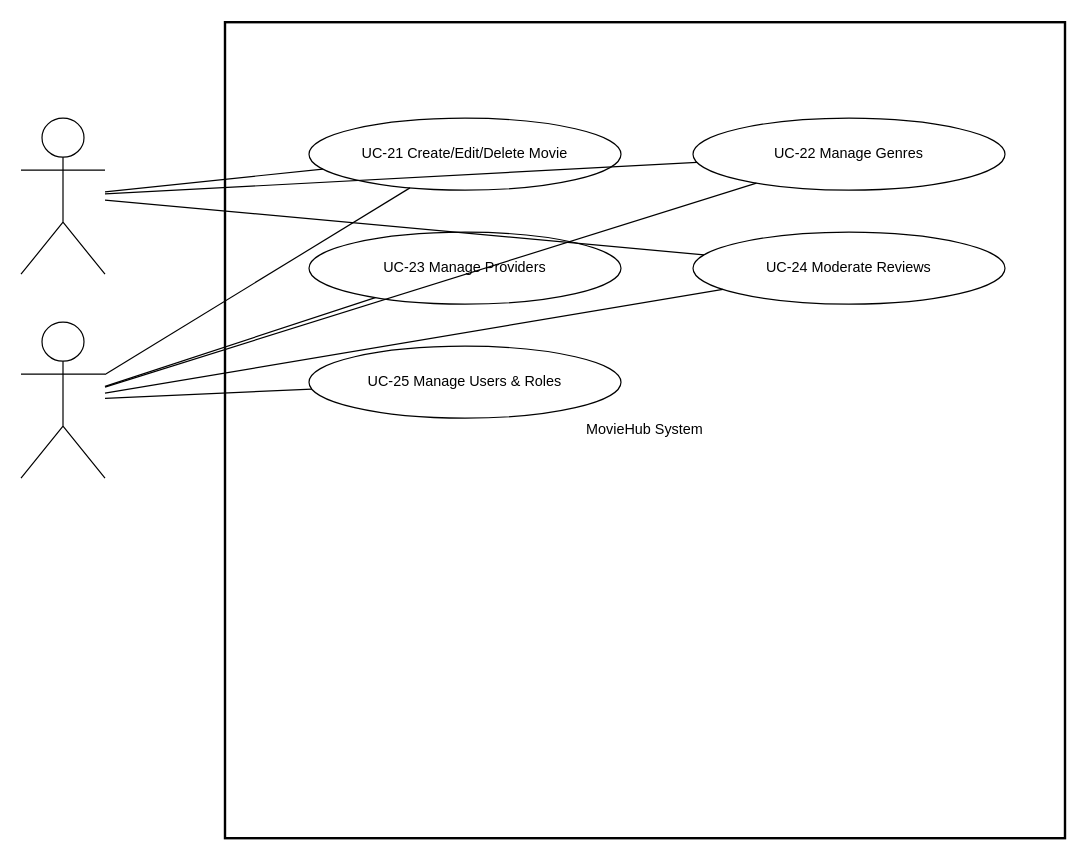
This 1087x859 diagram has some shape labels left out. The centre of each missing label's shape, as x and y in pixels:
Administrator: (62,399)
Moderator: (62,195)
